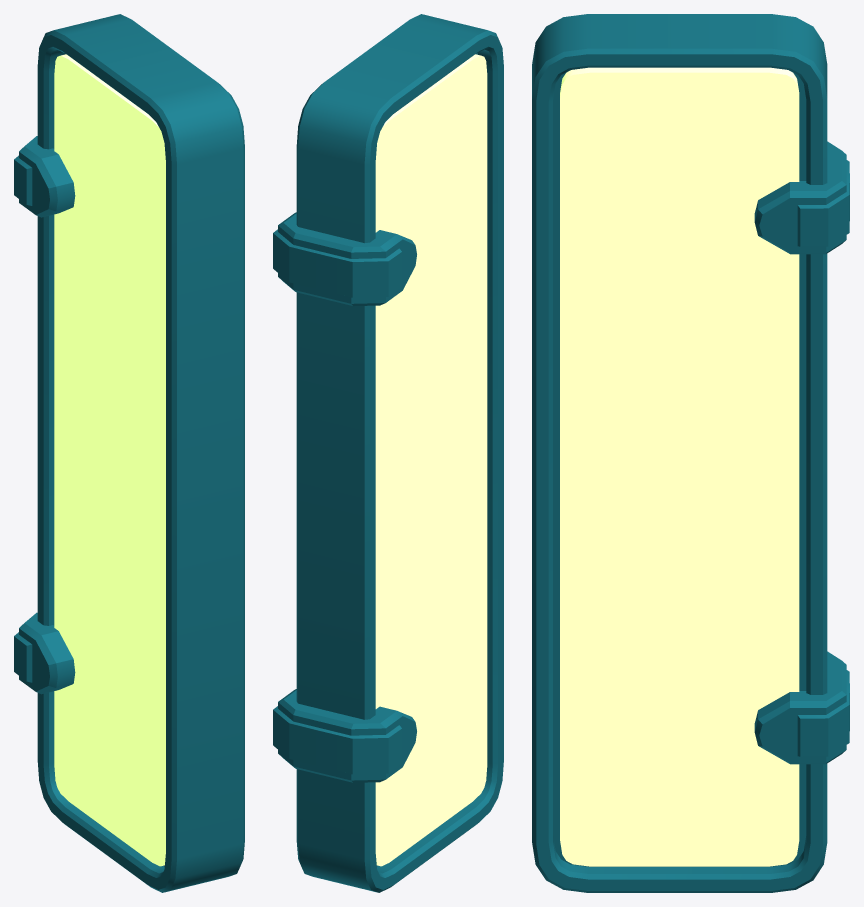
File: Mesh_BackgroundProp_Advertising_06.FBX
3 renders of one model, left to right at view 1: azimuth 30°, elevation 25°; view 2: azimuth 150°, elevation 25°; view 3: azimuth 270°, elevation 25°, orthographic. The views are drawn at different scales.
Visible parts, largest first — view 1: Mesh_BackgroundProp_Advertising_06; view 2: Mesh_BackgroundProp_Advertising_06; view 3: Mesh_BackgroundProp_Advertising_06.
Part boxes in pixels (<box>): Mesh_BackgroundProp_Advertising_06: <box>14,14,244,892</box>; Mesh_BackgroundProp_Advertising_06: <box>273,14,503,892</box>; Mesh_BackgroundProp_Advertising_06: <box>532,14,849,892</box>.
Bounding box in the file's own units: 667 × 1473 × 4317.
